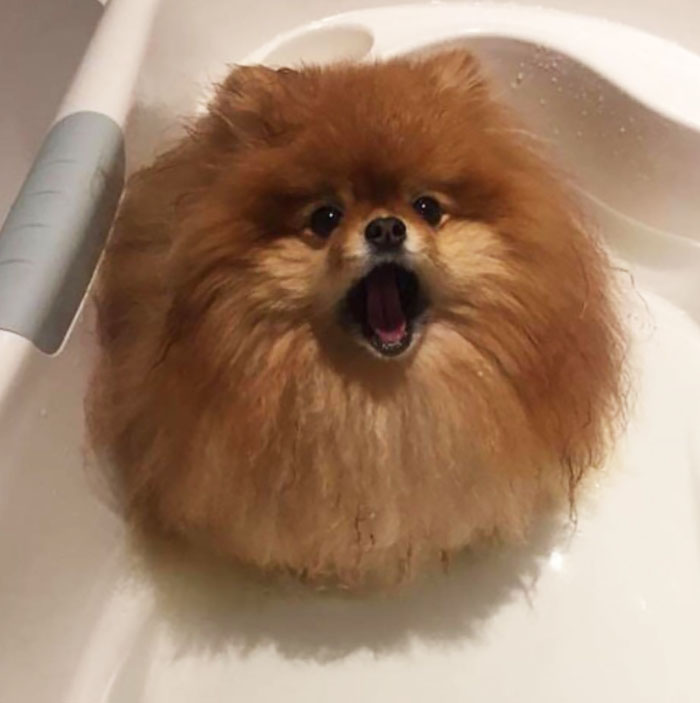pomeranian: (93, 58, 671, 597)
